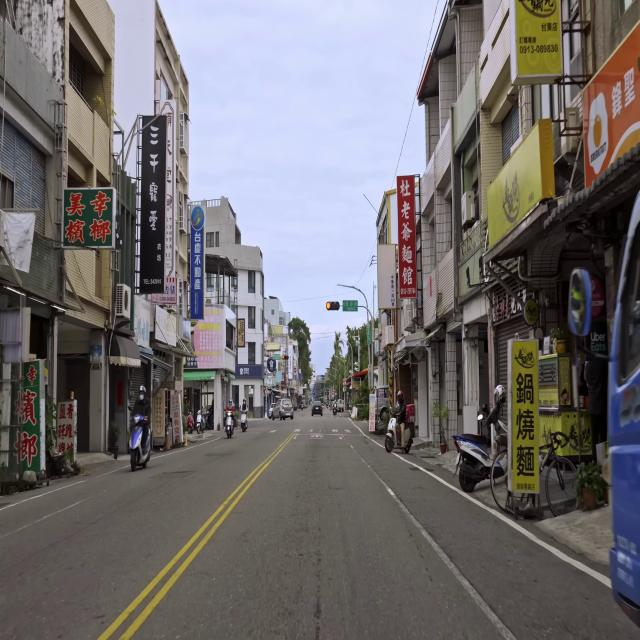red light: (326, 301, 340, 311), (282, 354, 288, 361)
